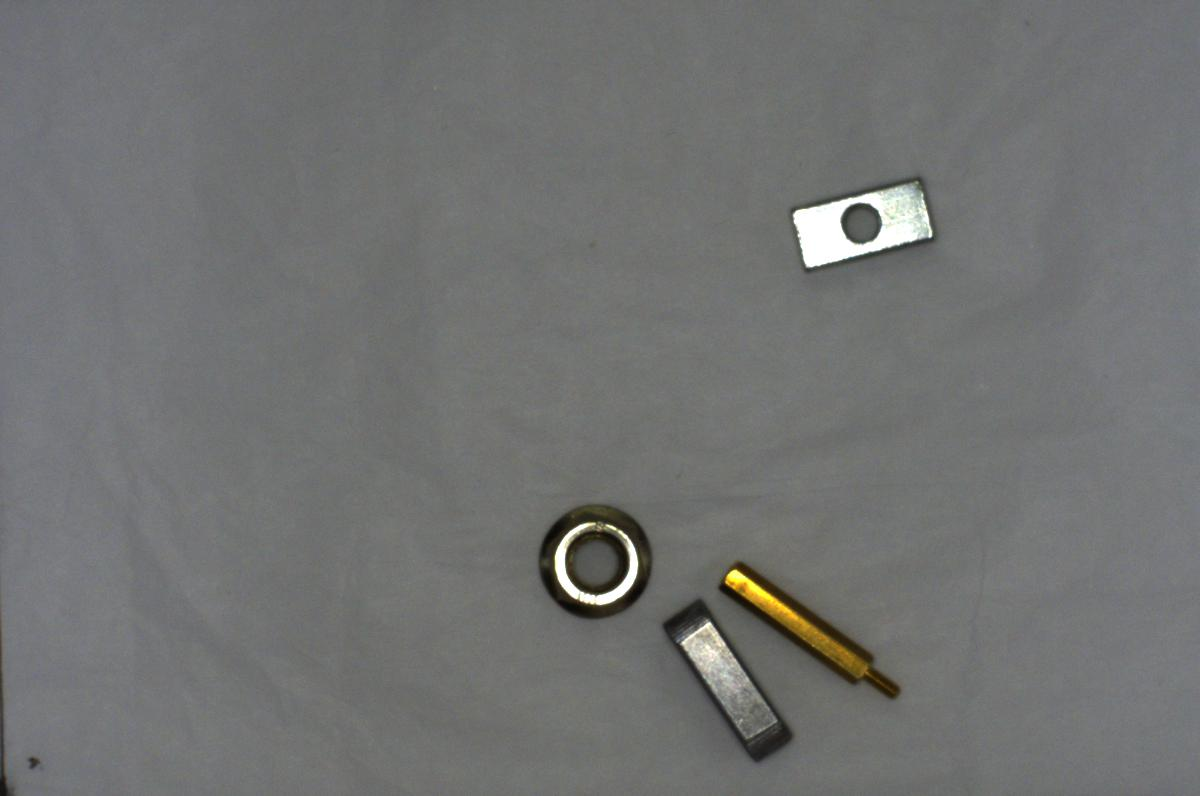Flange nut: (527, 493, 659, 623)
Hexagon pillar: (713, 565, 905, 706)
Keybar: (665, 592, 798, 761)
Rectangular nut: (787, 172, 937, 276)
